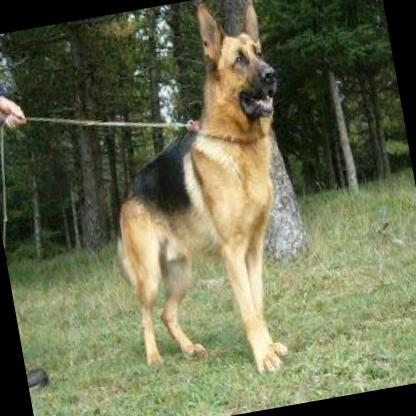German_shepherd: (61, 0, 332, 400)
